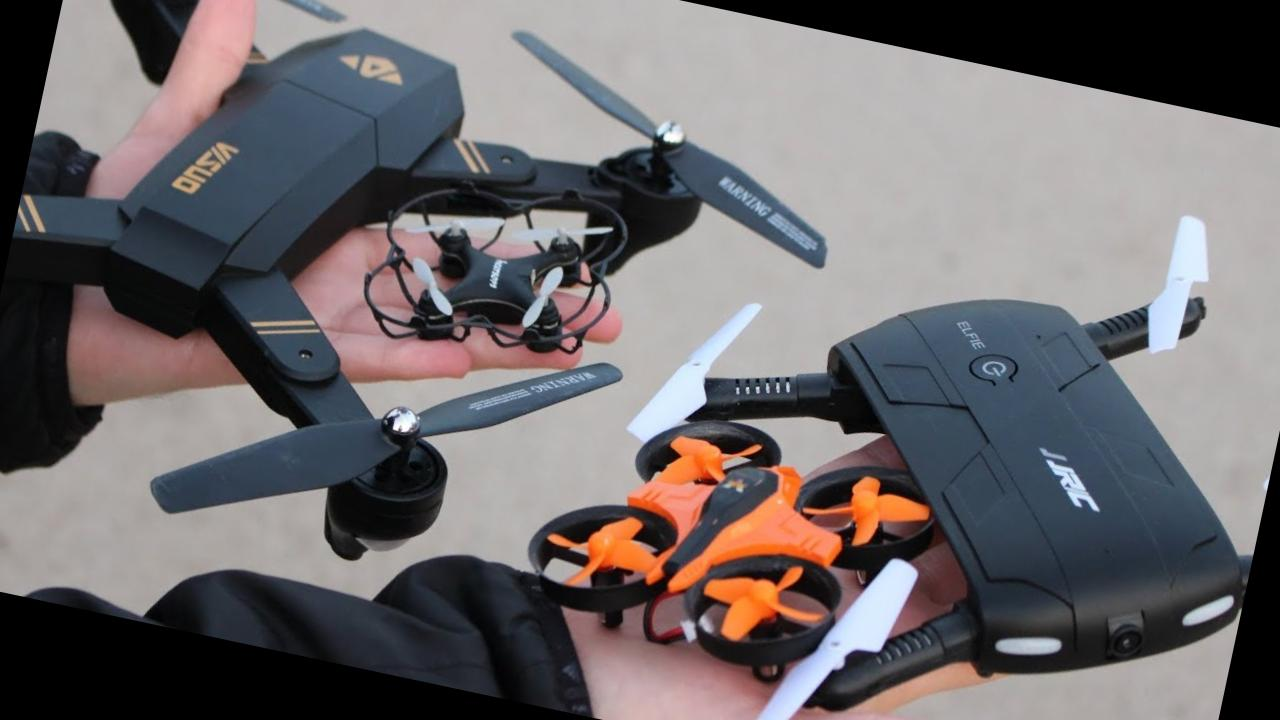drone: (0, 0, 876, 620), (503, 358, 992, 720)
